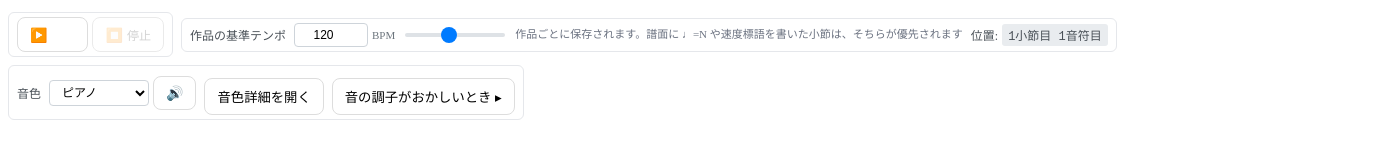
Scenario: PlaybackControls › テンポ制御 › 数字として読めない入力は元の値に戻り、案内が表示される
The width and height of the screenshot is (1375, 160).
Clear the number field named "テンポ（BPM）" at (331, 34), box [294,22,368,46]
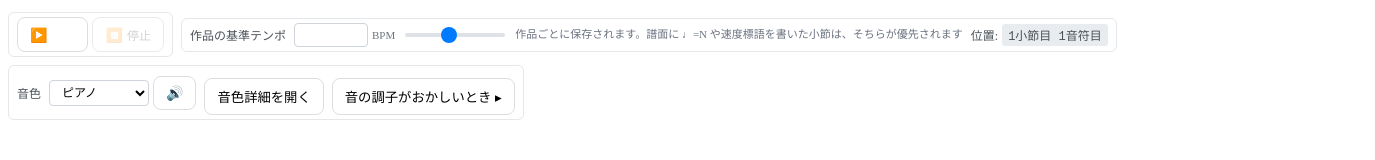
Leave the number field named "テンポ（BPM）", box [294,22,368,46]
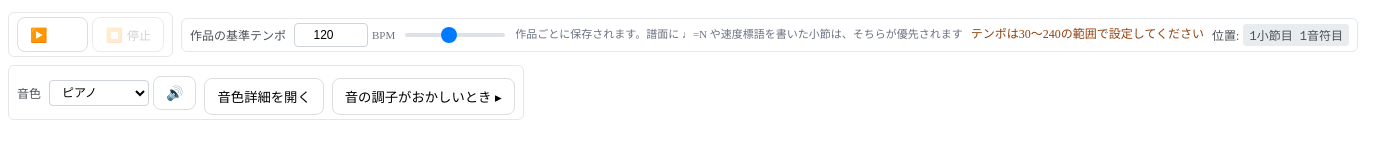
Check: the number field named "テンポ（BPM）" holds "120", box [294,22,368,46]
Check: the message reads "テンポは30〜240の範囲で設定してください", box [971,27,1204,41]
